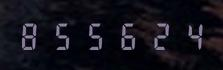eight: (17, 20, 47, 50)
five: (48, 20, 78, 50), (80, 20, 110, 50)
four: (173, 20, 203, 50)
six: (111, 20, 141, 50)
two: (142, 20, 172, 50)
